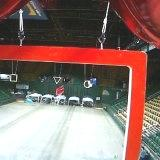Orange_Square_GShape: (1, 44, 147, 160)
Purple_Balloon: (90, 77, 96, 84)
Yellow_Square_GShape: (10, 73, 18, 83)
Yellow_Triangle_Gshape: (53, 76, 61, 84)
